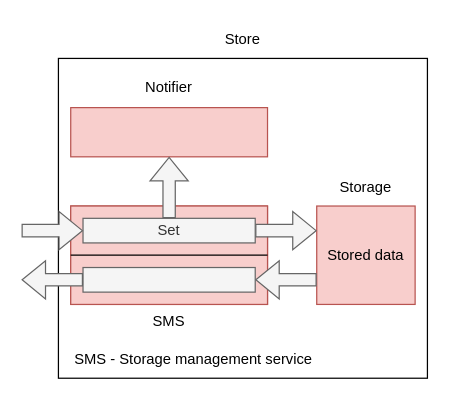
Image size: 449x400. Some labels were removed from this diagram. The shapes that lost their labels are listed below. From the top down, each one's box as (x1, y1, x2, y2) in pixels, then its label:
(69, 106, 268, 157): work when SMS set info in data
(82, 266, 255, 292): Get
